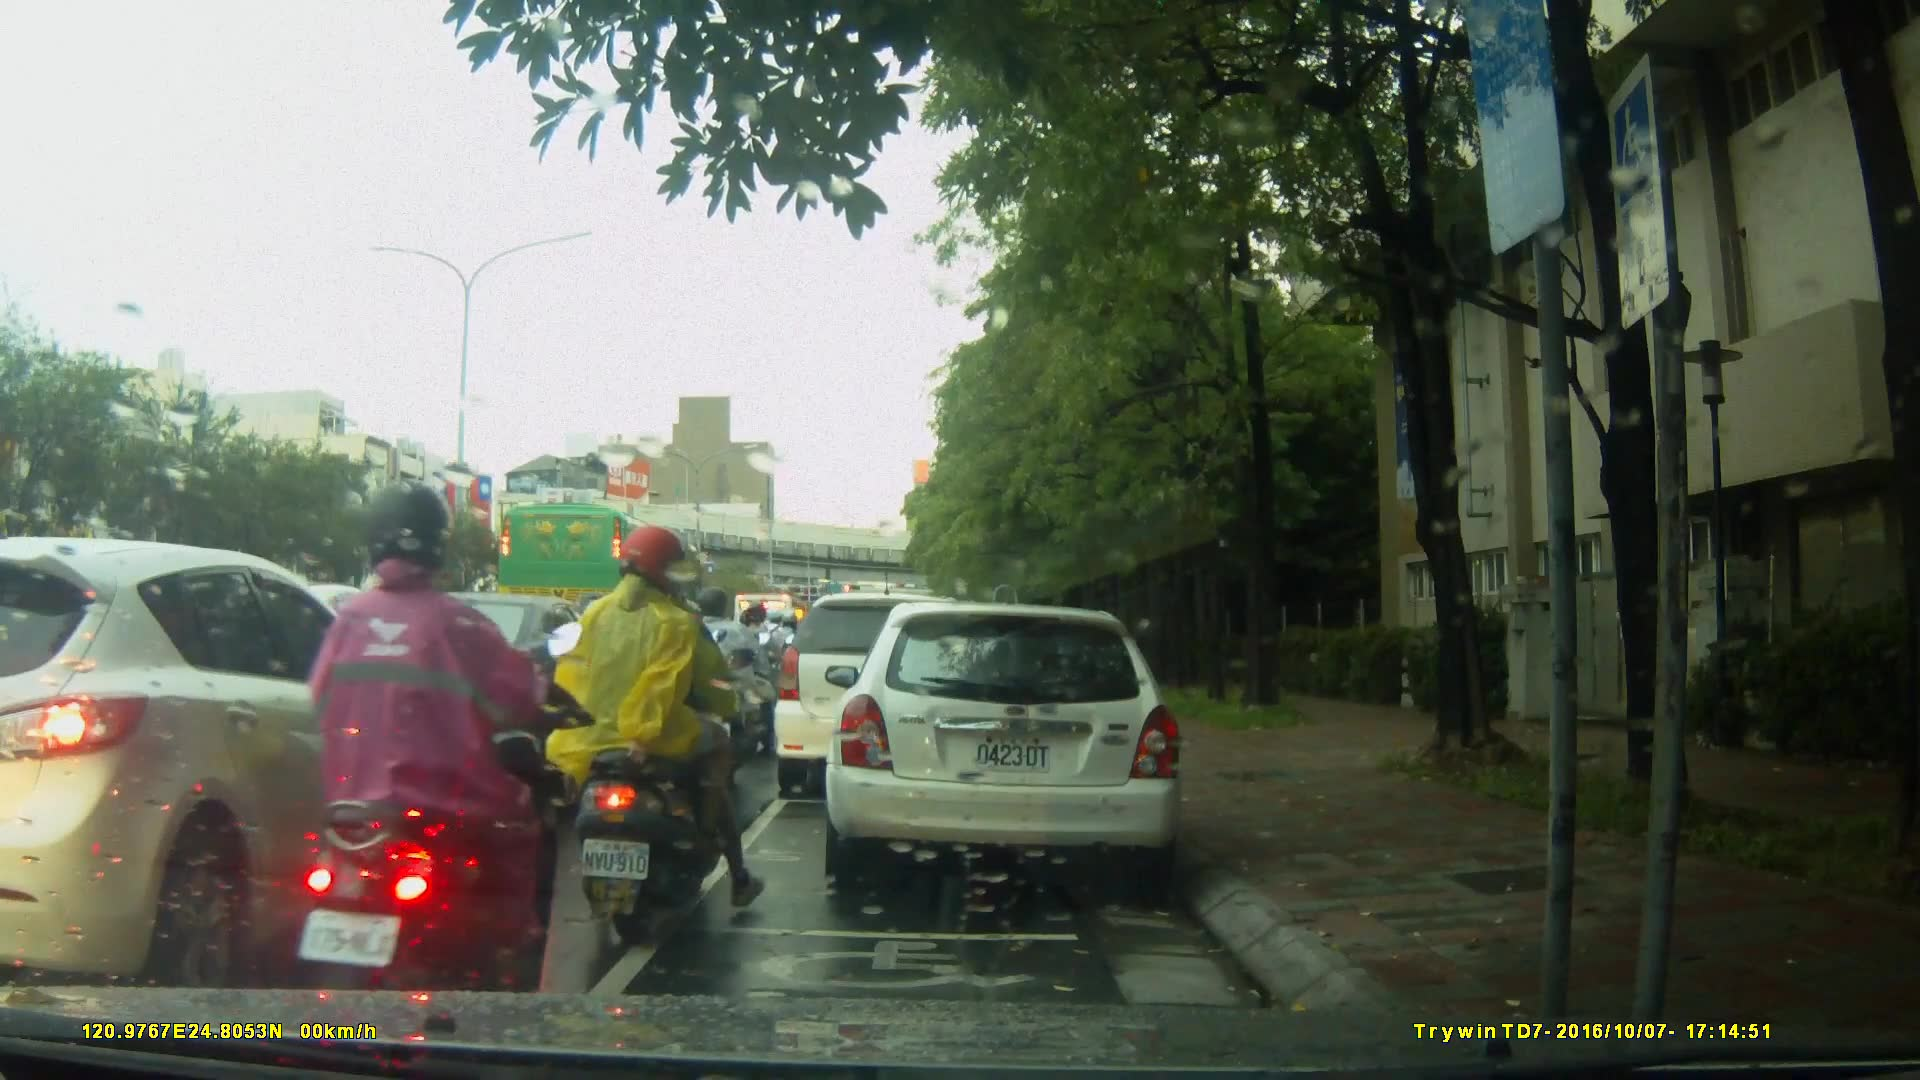rider: (276, 482, 540, 1041), (547, 526, 753, 941), (685, 589, 767, 786), (732, 598, 788, 747)
vehicle: (4, 535, 465, 988), (831, 592, 1196, 897), (319, 590, 629, 776), (770, 590, 999, 804), (495, 499, 709, 636)
